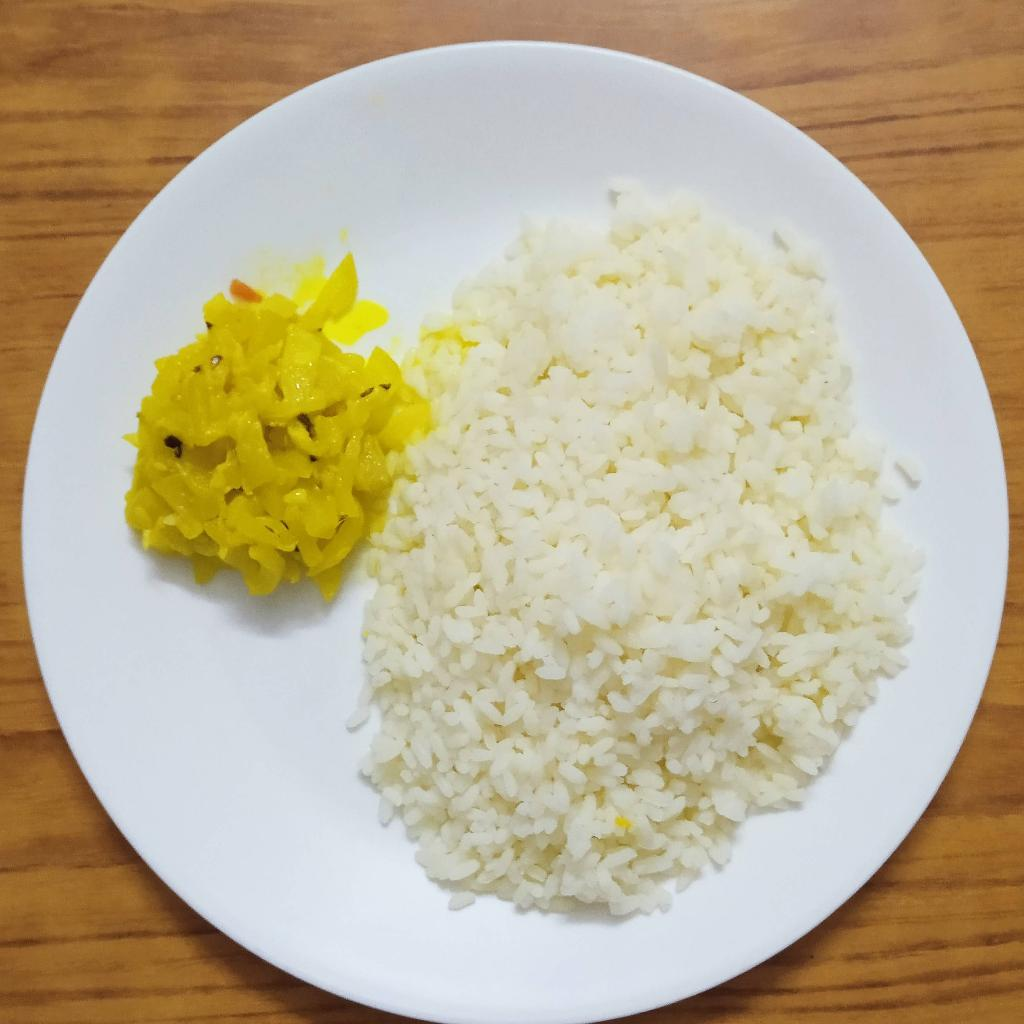rice: (360, 181, 920, 921)
vaji: (129, 246, 435, 601)
